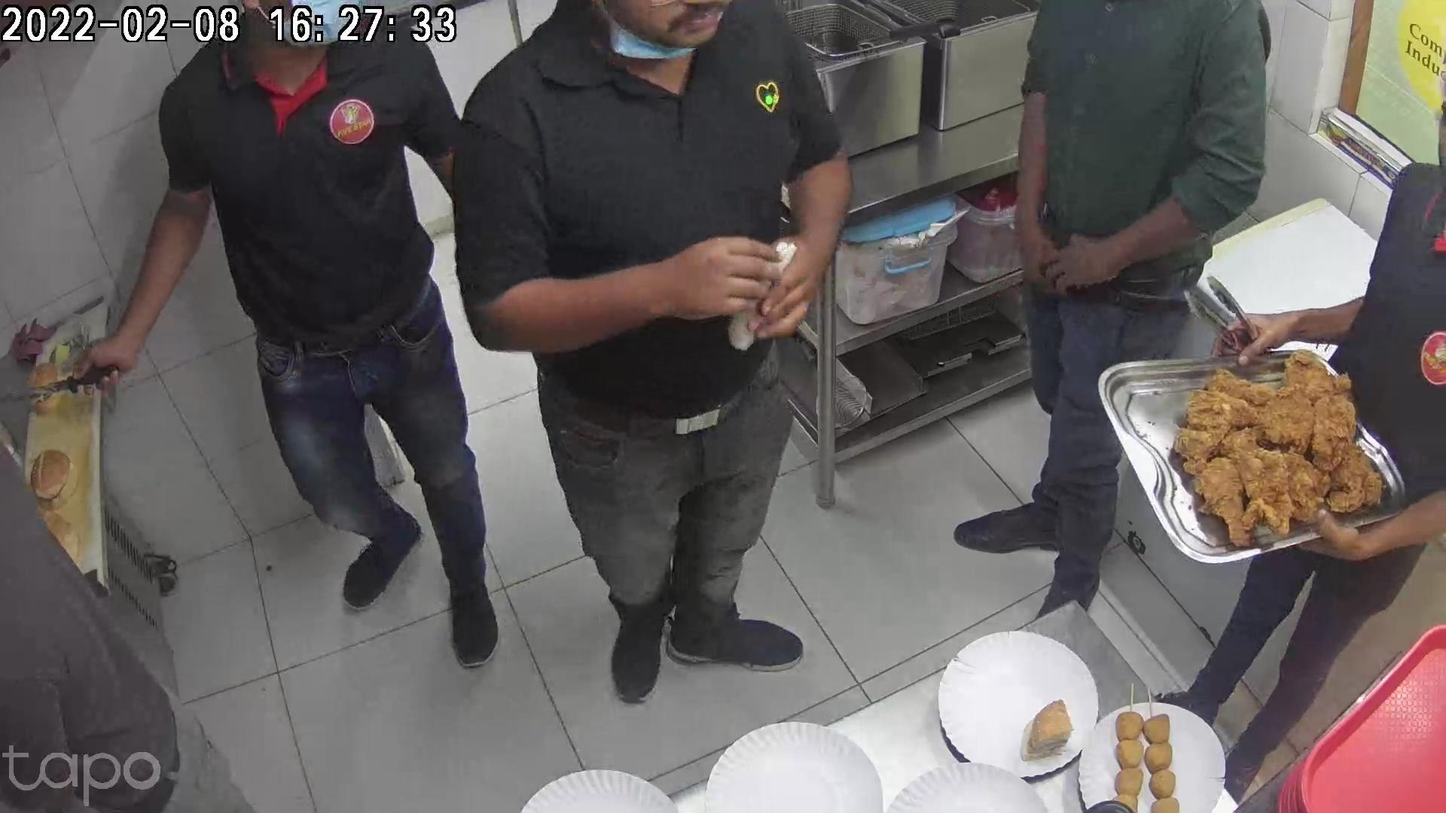no_gloves: (616, 239, 779, 321)
